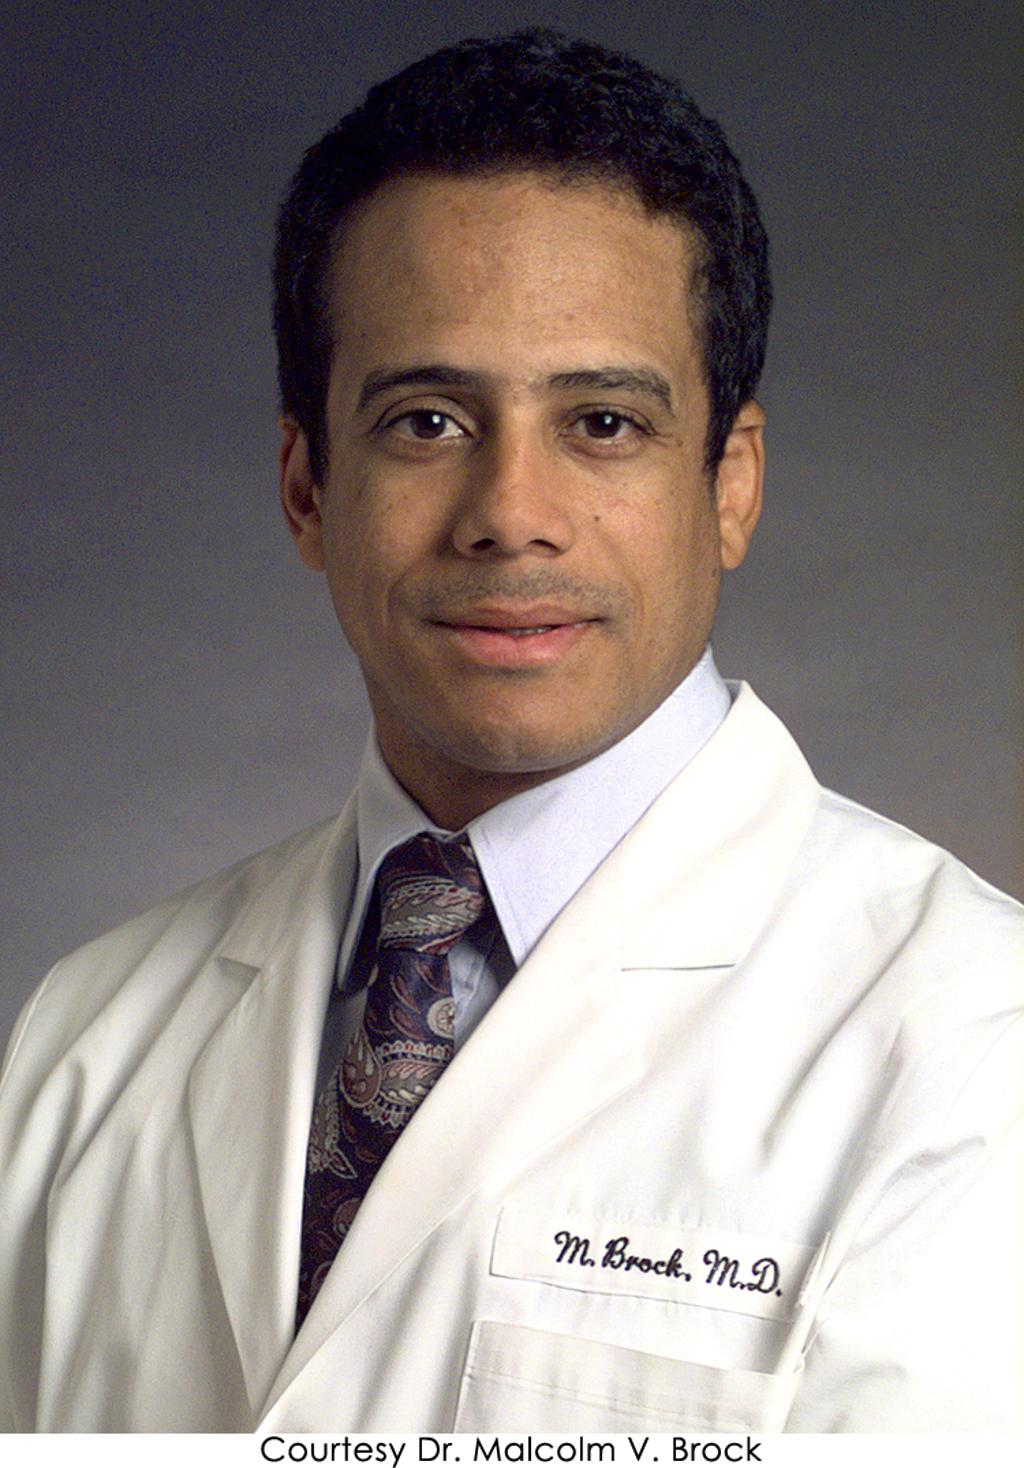face: (313, 178, 712, 766)
